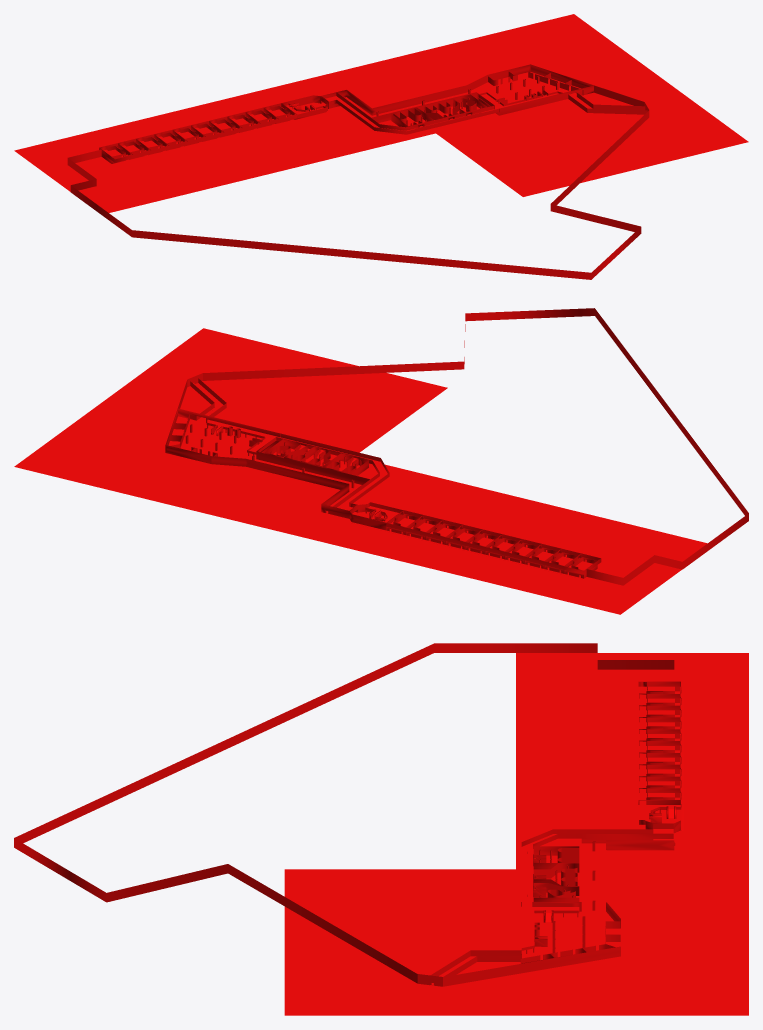
File: navmesh_passagierterminal.fbx
3 renders of one model, top to bottom at view 1: azimuth 30°, elevation 25°; view 2: azimuth 150°, elevation 25°; view 3: azimuth 270°, elevation 25°, orthographic. The views are drawn at different scales.
Visible parts, largest first — view 1: boden, waende; view 2: boden, waende; view 3: boden, waende.
Part boxes in pixels (left/top/right/bottom): boden: left=14, top=14, right=748, bottom=212; waende: left=67, top=64, right=649, bottom=279; boden: left=14, top=328, right=707, bottom=614; waende: left=165, top=308, right=748, bottom=585; boden: left=284, top=653, right=748, bottom=1015; waende: left=14, top=643, right=681, bottom=986.
Size of the model in its own units: 65915 by 855 by 56412.
